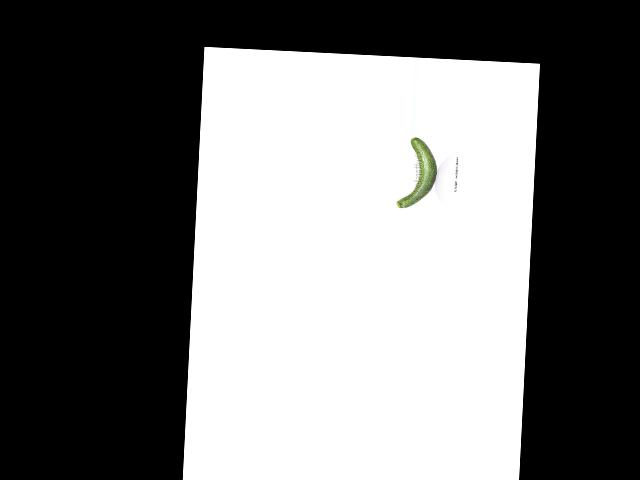cucumber: (396, 137, 438, 209)
